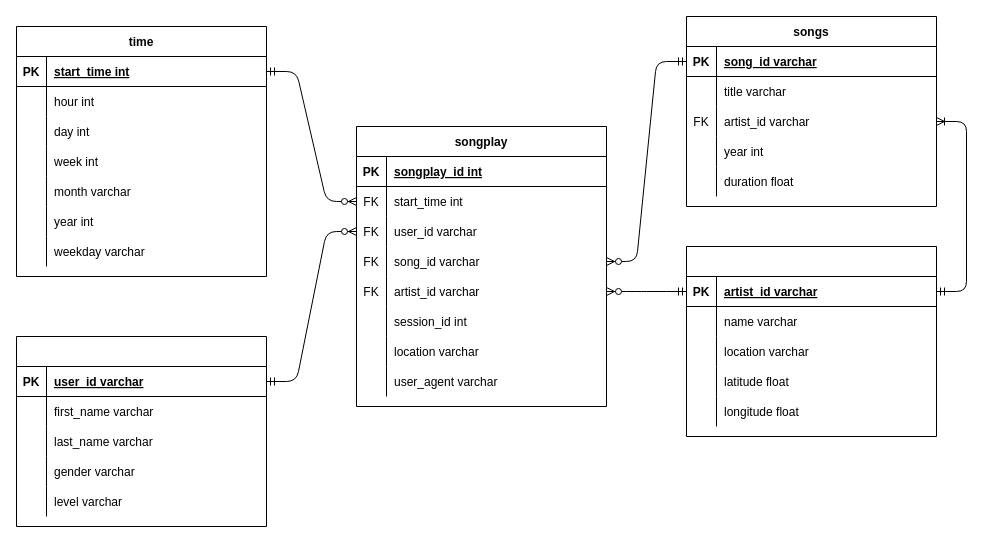
The diagram is 983 pixels wide and 543 high, and some of its shapes have lost their labels. The shapes that lost their labels are listed below. From the top down, each one's box as (x1, y1, x2, y2) in pixels, then its label:
(686, 246, 936, 436): artists
(16, 336, 266, 526): users
